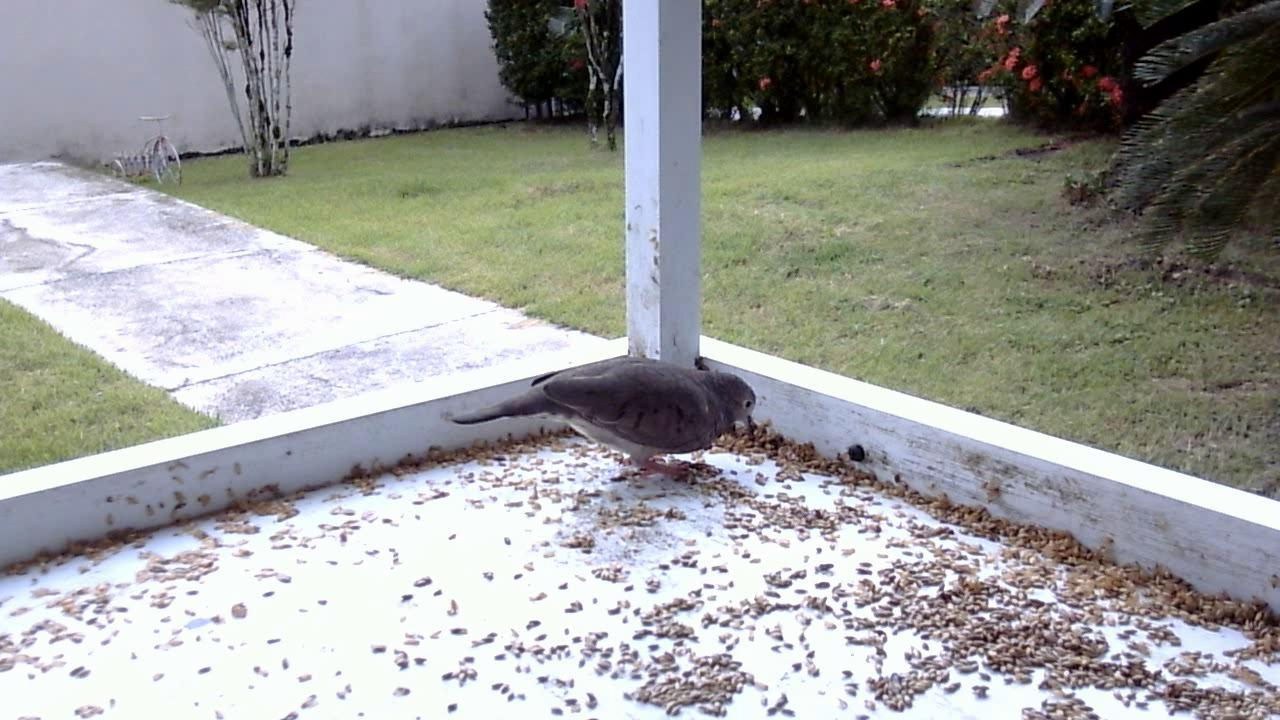rolinha: (436, 349, 764, 496)
